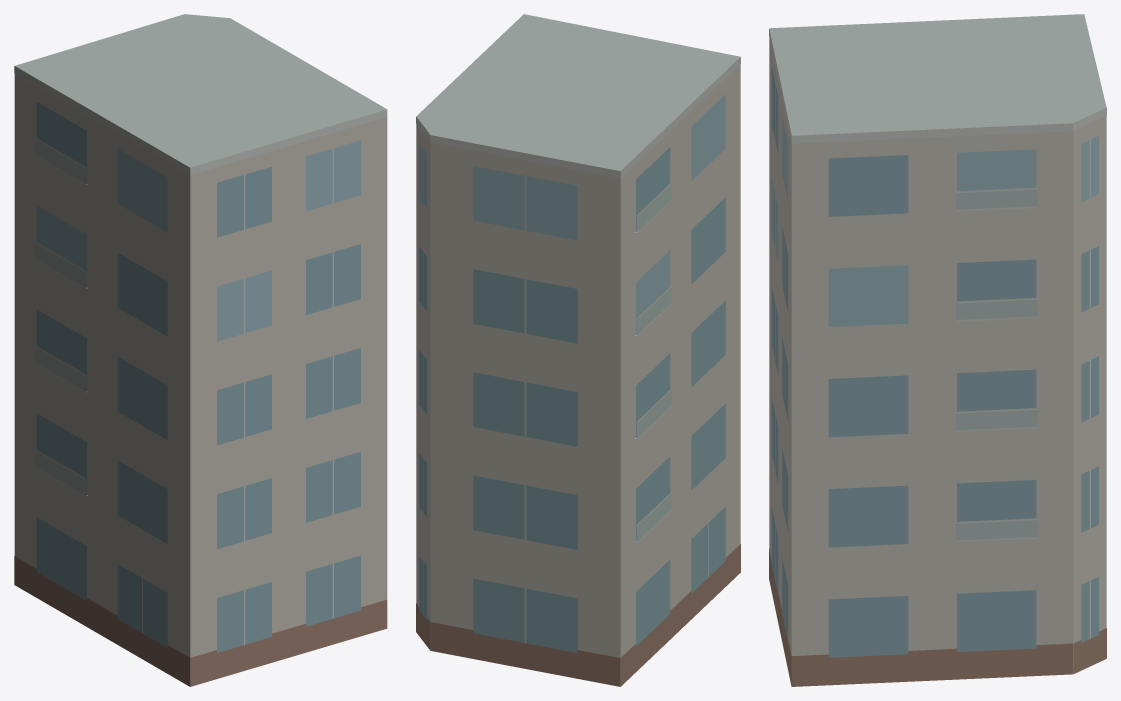
The model's file is survey-upis-32654936.glb.
3 views of the same model, side by side, from view 1: azimuth 30°, elevation 25°; view 2: azimuth 150°, elevation 25°; view 3: azimuth 270°, elevation 25° (orthographic). The views are drawn at different scales.
Parts seen in each view (by area): view 1: survey-upis-32654936.tmp; view 2: survey-upis-32654936.tmp; view 3: survey-upis-32654936.tmp.
Part boxes in pixels (x1,y1,x2,y2): survey-upis-32654936.tmp: (14,14,387,686); survey-upis-32654936.tmp: (416,14,740,686); survey-upis-32654936.tmp: (769,14,1106,686).
Bounding box in the file's own units: 8.02 × 16.9 × 9.39.
